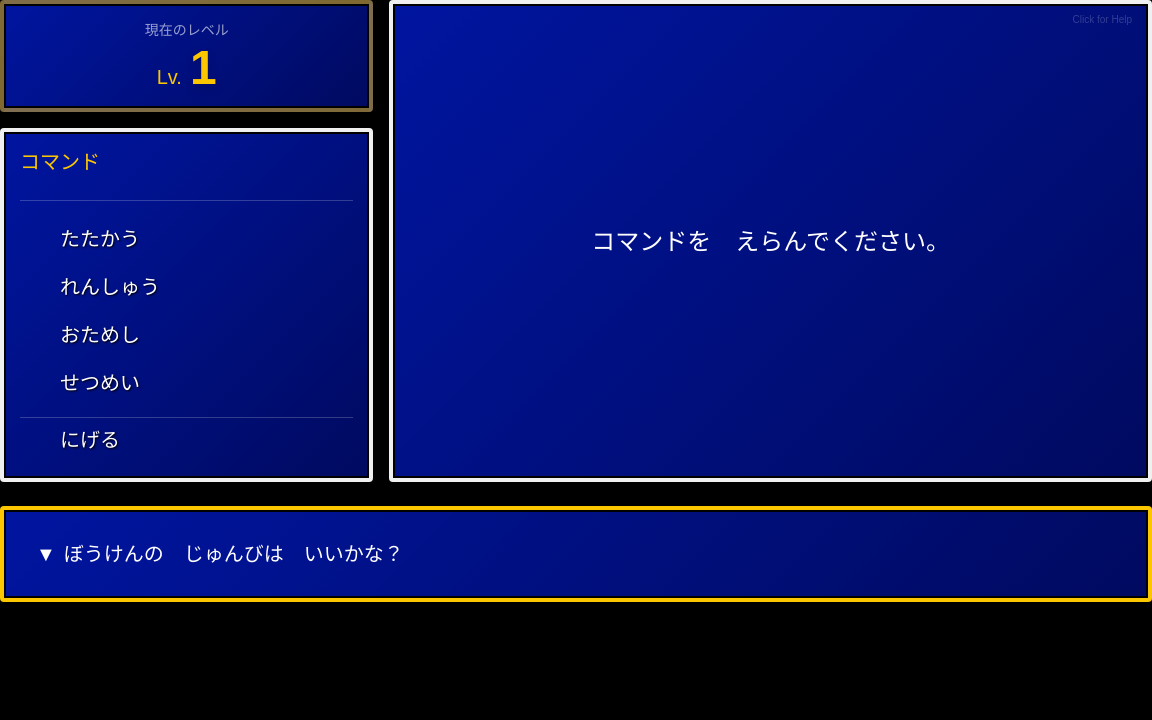
Scenario: MainMenu › switches to "たたかう" category and shows its items when clicked
The width and height of the screenshot is (1152, 720).
Click the button "たたかう" at (100, 239), box [20, 217, 353, 261]
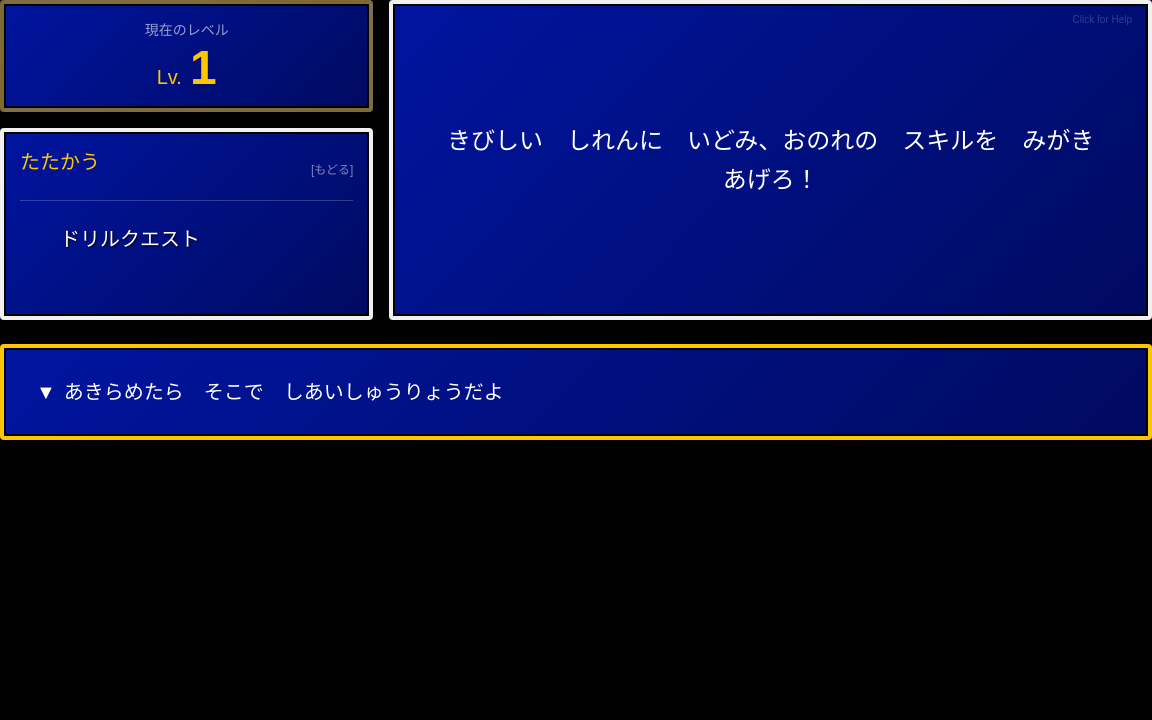
Expected: the heading reads "たたかう", [20, 151, 100, 173]
Expected: the button "ドリルクエスト" is shown, [20, 217, 353, 261]
